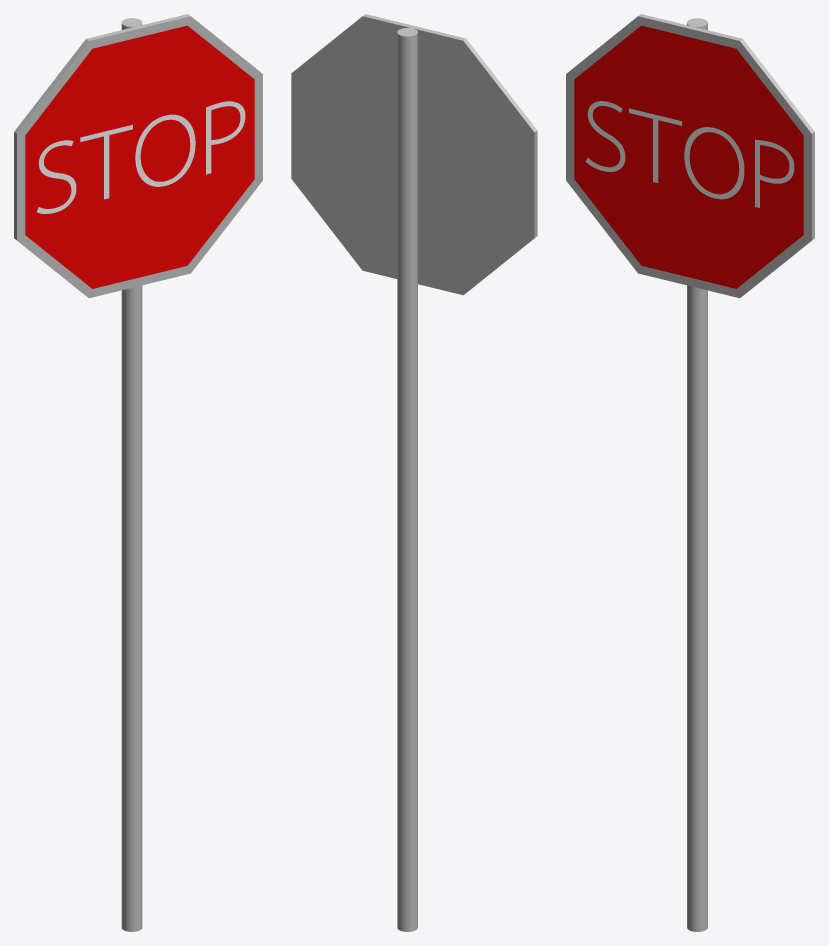
The picture shows the model from 3 angles, left to right: view 1: azimuth 30°, elevation 25°; view 2: azimuth 150°, elevation 25°; view 3: azimuth 330°, elevation 25°; orthographic projection.
Visible parts, largest first — view 1: Circle, Cylinder, หยุด_Text; view 2: Circle, Cylinder; view 3: Circle, Cylinder, หยุด_Text.
Part boxes in pixels (bbox=[...]): Circle: bbox=[14, 14, 262, 298]; Cylinder: bbox=[121, 18, 142, 931]; หยุด_Text: bbox=[37, 101, 245, 213]; Circle: bbox=[291, 14, 537, 295]; Cylinder: bbox=[397, 28, 417, 931]; Circle: bbox=[566, 14, 814, 298]; Cylinder: bbox=[687, 18, 707, 931]; หยุด_Text: bbox=[585, 101, 794, 207].
Size of the model in its own units: 0.9239 by 3.25 by 0.0878.
